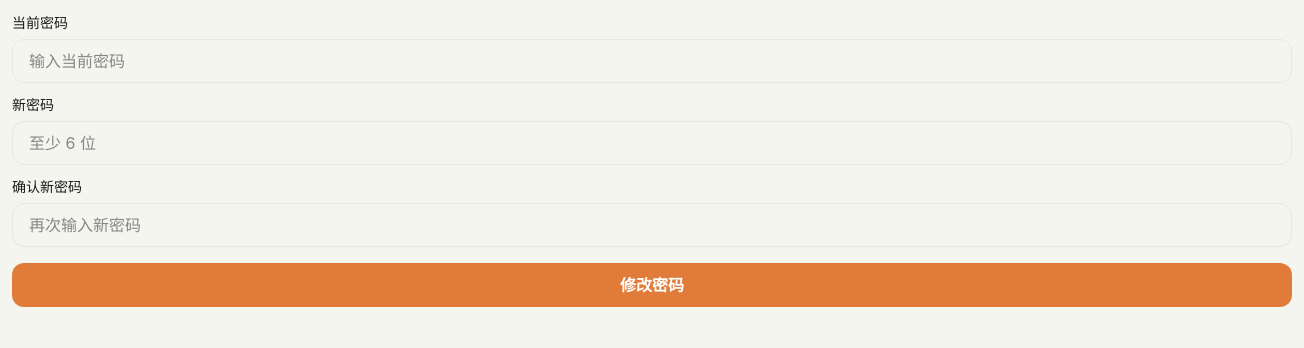
Test: ChangePasswordSection - 当前密码错误提示 › 修改当前密码输入内容后，错误提示自动消失
Step 1. Type "old-pass" into the password field with placeholder "输入当前密码" → {"x": 652, "y": 61}, box [12,39,1292,83]
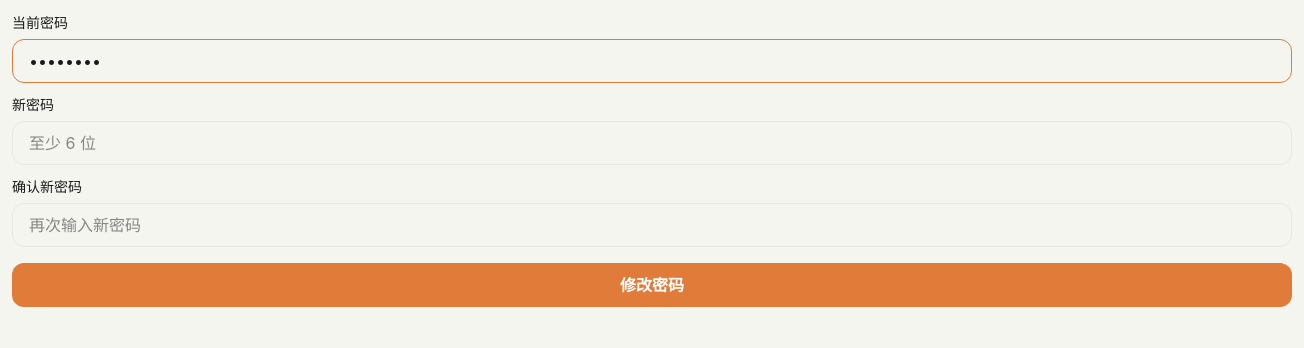
Step 2. Type "new-pass-1" into the password field with placeholder "至少 6 位" → {"x": 652, "y": 143}, box [12,121,1292,165]
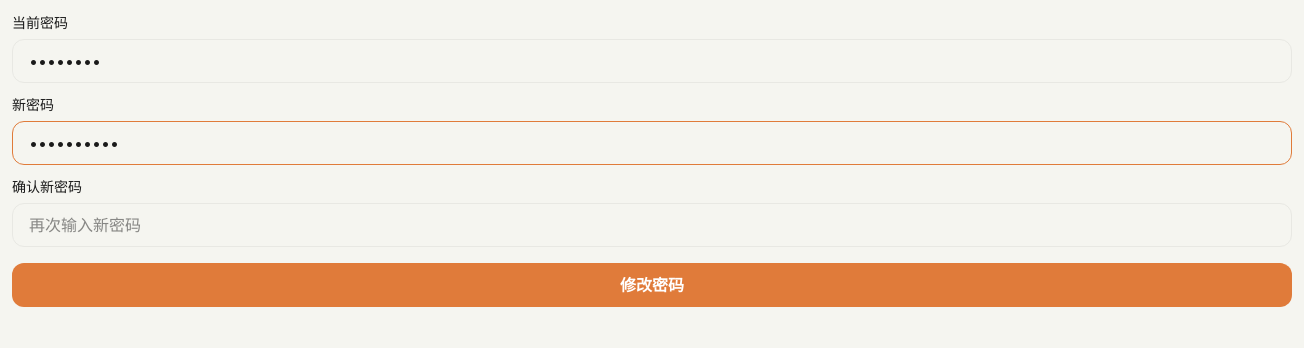
Step 3. Type "new-pass-1" into the password field with placeholder "再次输入新密码" → {"x": 652, "y": 225}, box [12,203,1292,247]
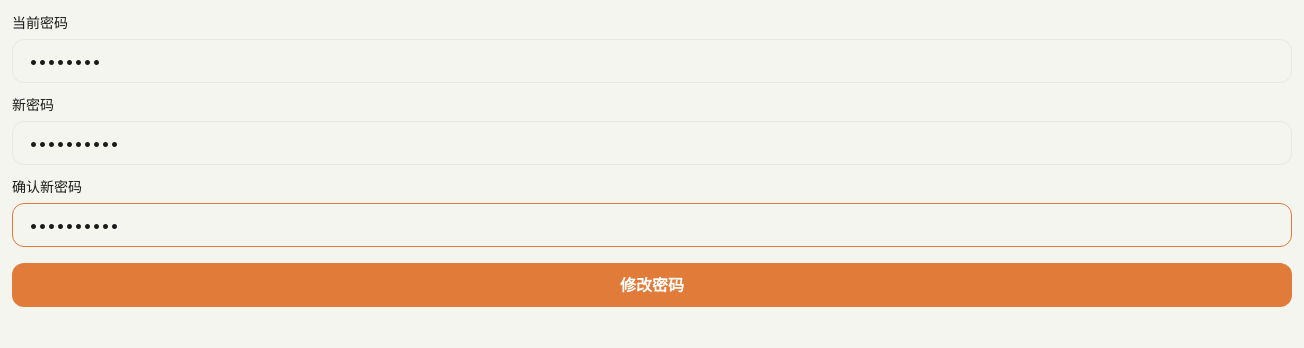
Step 4. Click the button "修改密码" → {"x": 652, "y": 285}, box [12,263,1292,307]
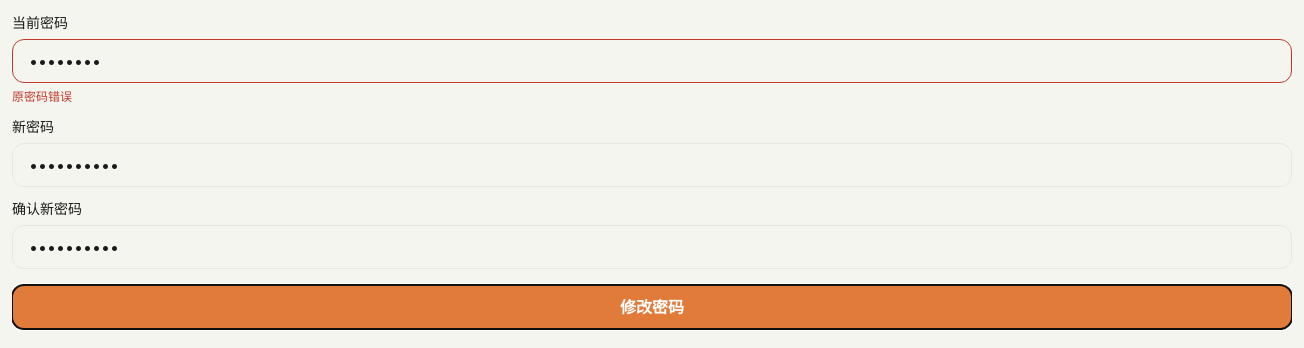
Check: the text "原密码错误" is shown, box [12,89,72,104]
Step 5. Type "x" into the password field with placeholder "输入当前密码" → {"x": 652, "y": 61}, box [12,39,1292,83]
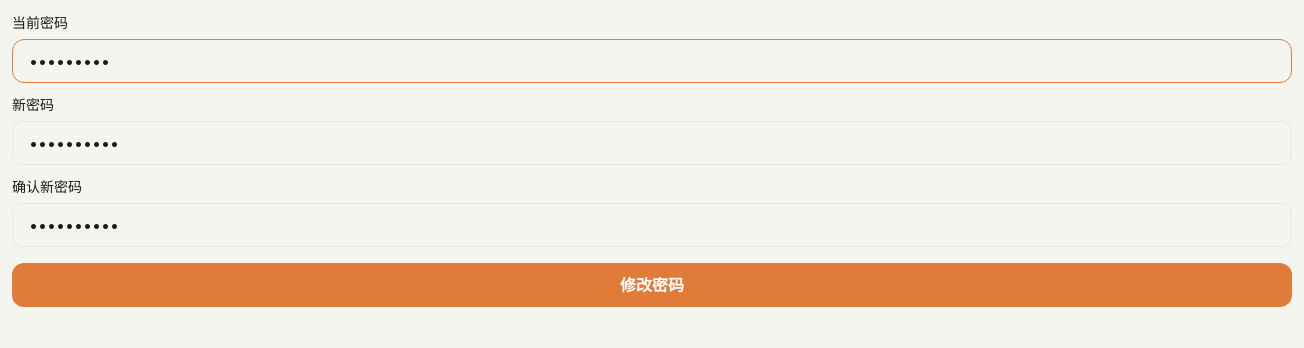
Check: the text "原密码错误" is gone
